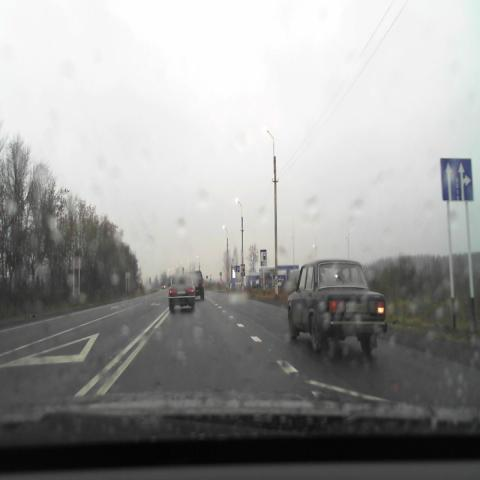5_15_2_2: (440, 157, 474, 202)
